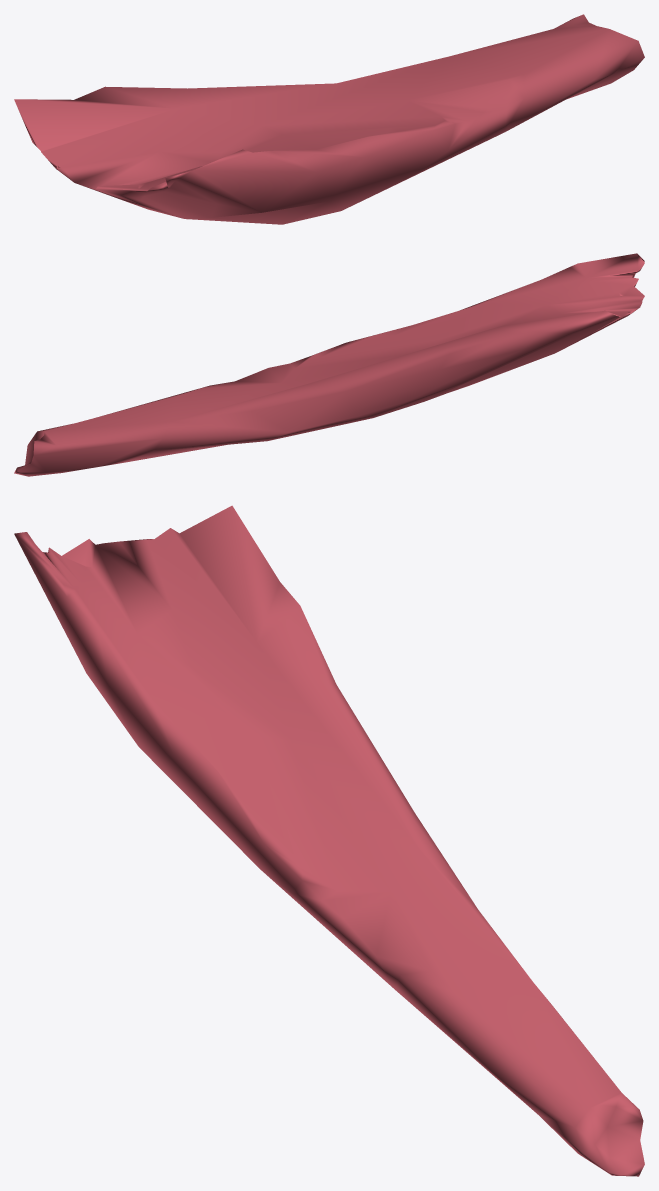
The picture shows the model from 3 angles, top to bottom: view 1: azimuth 30°, elevation 25°; view 2: azimuth 150°, elevation 25°; view 3: azimuth 270°, elevation 25°; orthographic projection. The views are drawn at different scales.
Visible parts, largest first — view 1: 左侧拇短屈肌浅头; view 2: 左侧拇短屈肌浅头; view 3: 左侧拇短屈肌浅头.
Boxes of the visible parts, x1,y1,x2,y2 form: 左侧拇短屈肌浅头: (14,14,644,224); 左侧拇短屈肌浅头: (14,253,644,476); 左侧拇短屈肌浅头: (14,505,644,1176).
Size of the model in its own units: 0.064 by 0.0244 by 0.0455.
